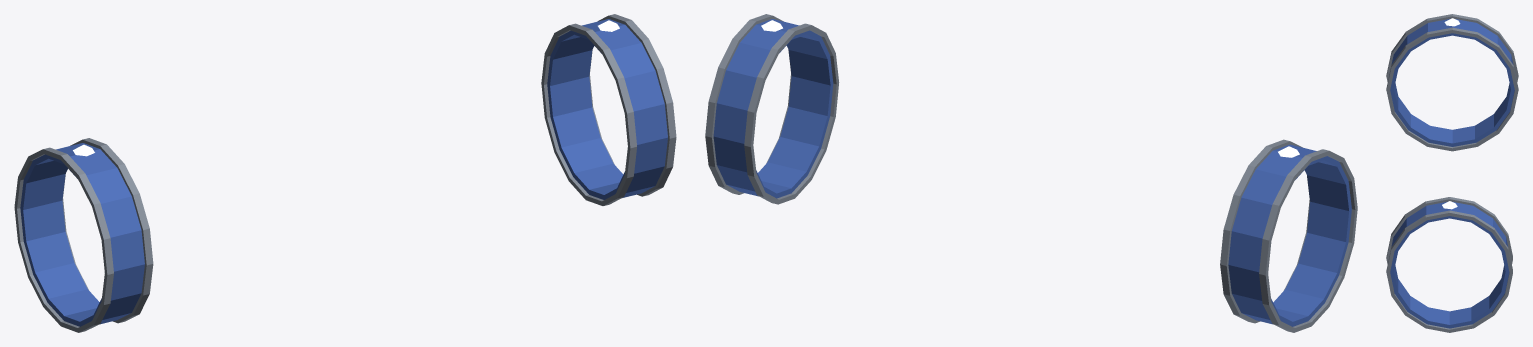
File: armor_lord_arms_rare_human.glb
3 views of the same model, side by side, from view 1: azimuth 30°, elevation 25°; view 2: azimuth 150°, elevation 25°; view 3: azimuth 270°, elevation 25° (orthographic). The views are drawn at different scales.
Visible parts, largest first — view 1: armor_lord_arms_rare_human__lowerarm_r, armor_lord_arms_rare_human__lowerarm_l; view 2: armor_lord_arms_rare_human__lowerarm_r, armor_lord_arms_rare_human__lowerarm_l; view 3: armor_lord_arms_rare_human__lowerarm_r, armor_lord_arms_rare_human__lowerarm_l.
Boxes of the visible parts, left/top/right/bottom form: armor_lord_arms_rare_human__lowerarm_r: left=14, top=138, right=153, bottom=332; armor_lord_arms_rare_human__lowerarm_l: left=541, top=14, right=676, bottom=205; armor_lord_arms_rare_human__lowerarm_r: left=1220, top=139, right=1357, bottom=332; armor_lord_arms_rare_human__lowerarm_l: left=705, top=14, right=839, bottom=204; armor_lord_arms_rare_human__lowerarm_r: left=1386, top=14, right=1518, bottom=151; armor_lord_arms_rare_human__lowerarm_l: left=1386, top=197, right=1512, bottom=332.
Bounding box in the file's own units: 118 × 34.99 × 33.4.
